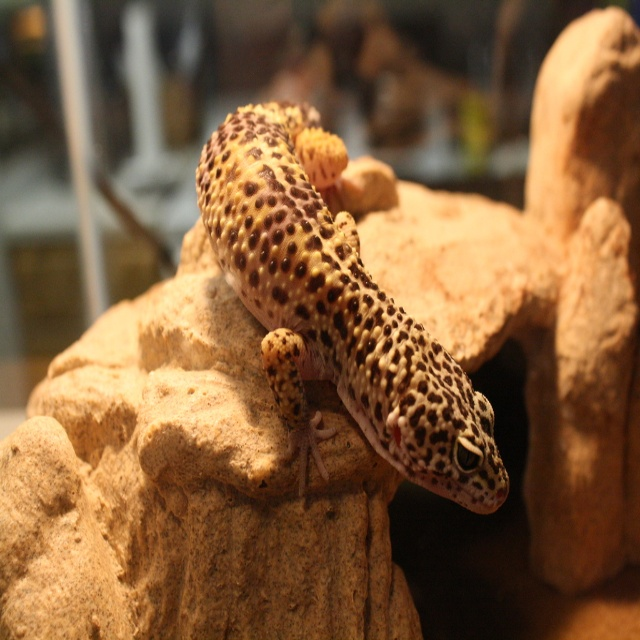Lizard: (195, 98, 509, 516)
